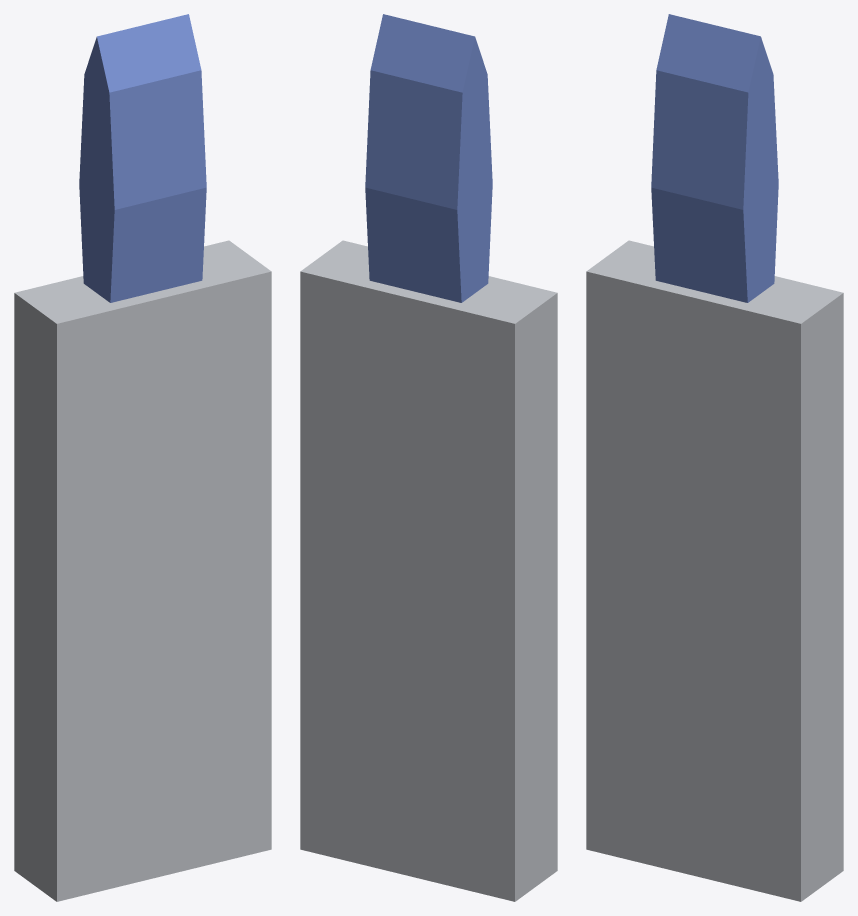
Rendered from detector_scanner.glb.
The picture shows the model from 3 angles, left to right: view 1: azimuth 30°, elevation 25°; view 2: azimuth 150°, elevation 25°; view 3: azimuth 330°, elevation 25°; orthographic projection.
Visible parts, largest first — view 1: box, cyl; view 2: box, cyl; view 3: box, cyl.
Boxes of the visible parts, left/top/right/bottom form: box: left=14, top=240, right=271, bottom=901; cyl: left=79, top=14, right=206, bottom=302; box: left=300, top=240, right=557, bottom=901; cyl: left=365, top=14, right=492, bottom=302; box: left=586, top=240, right=843, bottom=901; cyl: left=651, top=14, right=778, bottom=302.
Bounding box in the file's own units: 0.07 × 0.26 × 0.024.
